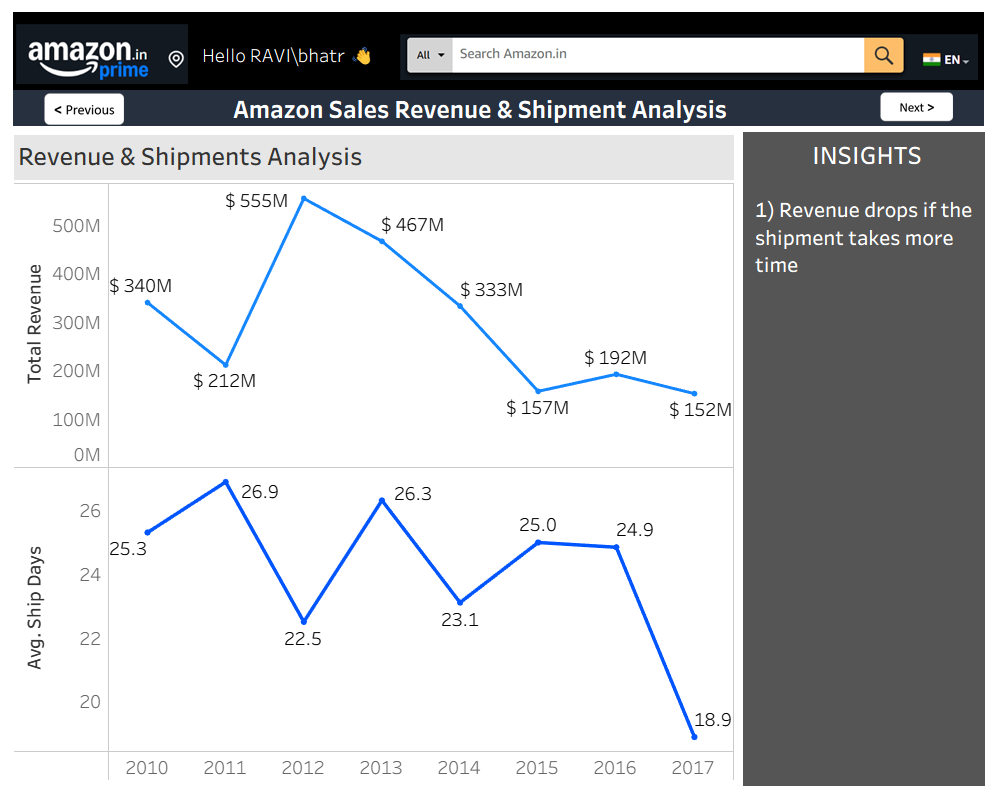

The page's visual inventory and layout, read from the dashboard file:
{"tool":"tableau","page":{"name":"Revenue Analysis","canvas":[1000,800],"ordinal":2},"visuals":[{"type":"blank","box":[17,14,971,78]},{"type":"image","param":"C:/Users/bhatr/Documents/IT Rescources/Projects-GitHub/Tableau Dashboards/Amazon","box":[20,26,176,60]},{"type":"image","param":"C:/Users/bhatr/Documents/IT Rescources/Projects-GitHub/Tableau Dashboards/Amazon","box":[404,36,578,55]},{"type":"text","box":[202,40,223,34]},{"type":"blank","box":[17,92,971,36]},{"type":"dashboard-object","box":[871,94,99,32]},{"type":"dashboard-object","box":[25,95,127,35]},{"type":"text","box":[233,95,538,30]},{"type":"blank","box":[747,134,242,654]},{"type":"worksheet","title":"Revenue & Shipments Analysis","mark":"Automatic","rows":["Total Revenue","Calculation_0890636803031042"],"cols":["Ship Date"],"box":[18,137,720,646]},{"type":"text","box":[812,140,116,33]},{"type":"text","box":[755,183,225,113]}]}

Visuals, with their boxes on the page's 1000x800 design canvas (x1, y1, x2, y2). These are canvas units, not pixel positions in the 990x790 screenshot, which may show the page scaled, cropped or inside an application window:
blank: [17, 14, 988, 92]
image: [20, 26, 196, 86]
image: [404, 36, 982, 91]
text: [202, 40, 425, 74]
blank: [17, 92, 988, 128]
dashboard-object: [871, 94, 970, 126]
dashboard-object: [25, 95, 152, 130]
text: [233, 95, 771, 125]
blank: [747, 134, 989, 788]
"Revenue & Shipments Analysis" worksheet: [18, 137, 738, 783]
text: [812, 140, 928, 173]
text: [755, 183, 980, 296]
